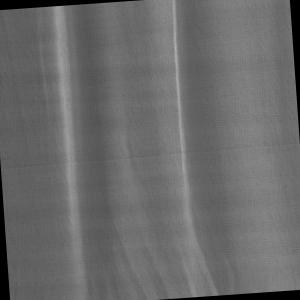Wrinkle: (27, 1, 300, 300)
